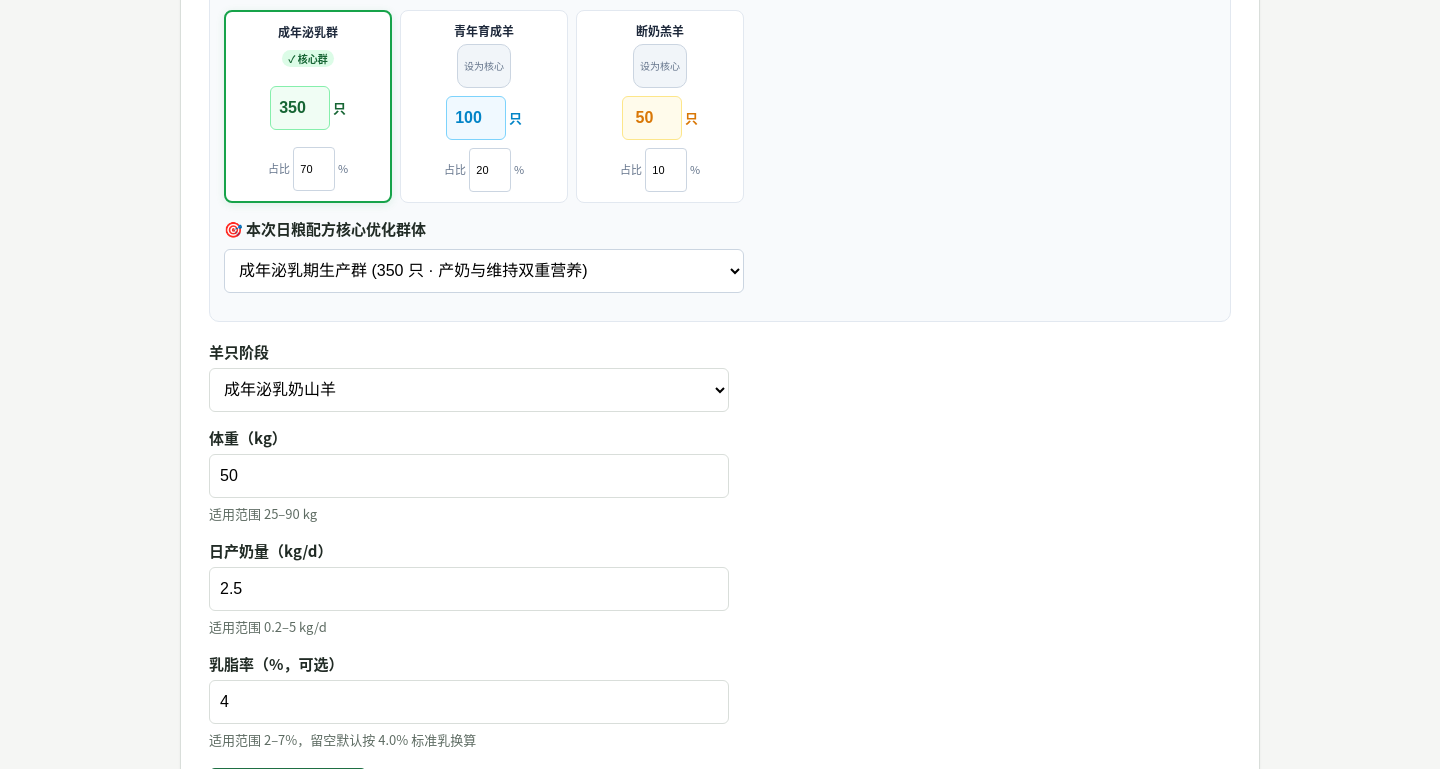
Test case: App 三步流程 › 切换为维持期后隐藏产奶量与乳脂率字段
(page scrolled)
Select "成年非泌乳维持期" in the dropdown labelled "羊只阶段". click: [469, 390]
box: [209,368,729,412]
(page scrolled)
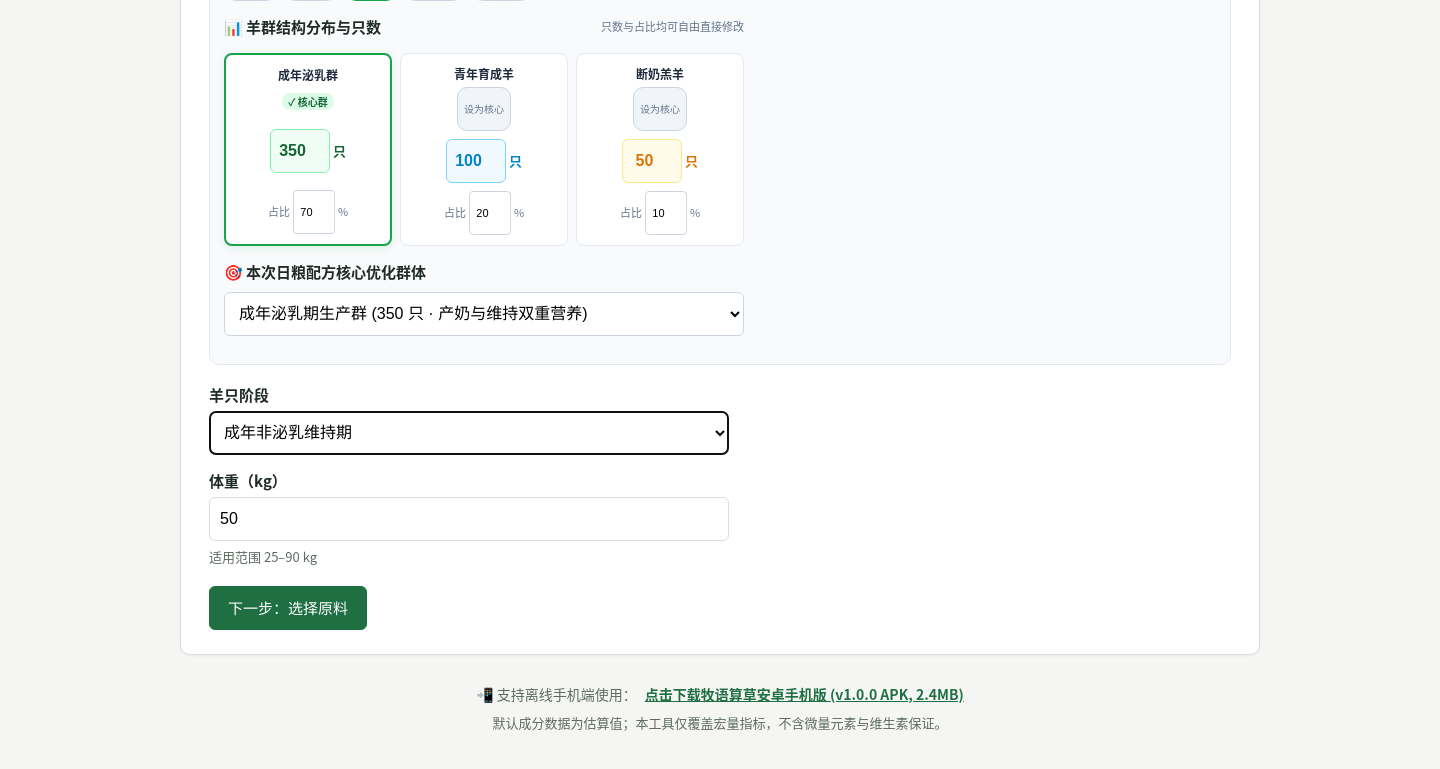
Result: the label labelled "日产奶量（kg/d）" is gone
Result: the label labelled "乳脂率（%，可选）" is gone
